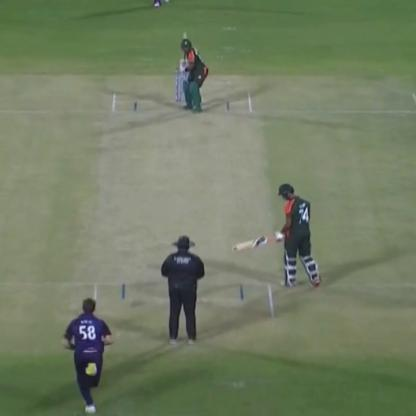bat: (90, 81, 278, 329)
pitch: (176, 27, 193, 84)
